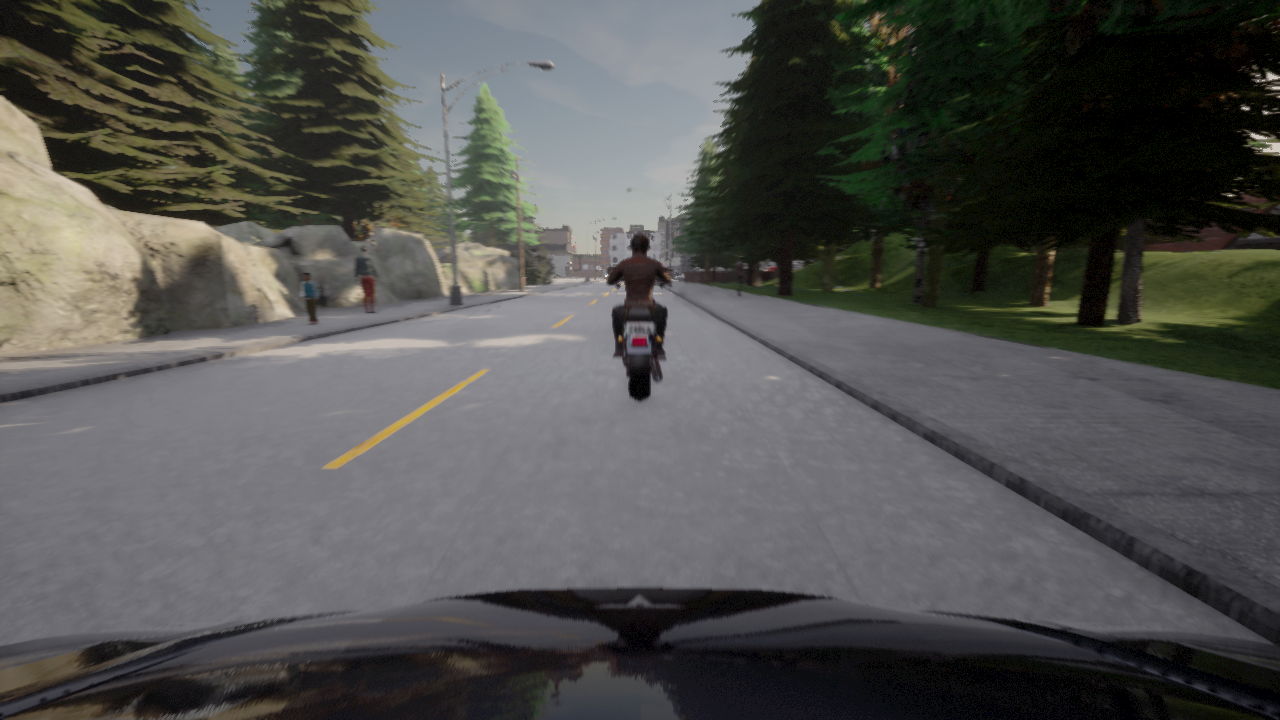cyclist: (0, 588, 1279, 719), (607, 268, 672, 400), (672, 272, 677, 274)
pedestrian: (300, 272, 318, 324), (735, 257, 746, 296), (695, 274, 698, 286)
